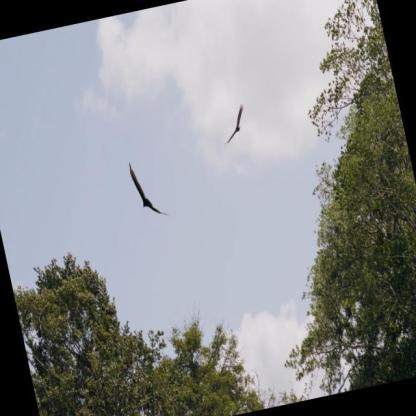bird: (127, 155, 170, 222), (216, 100, 252, 146)
